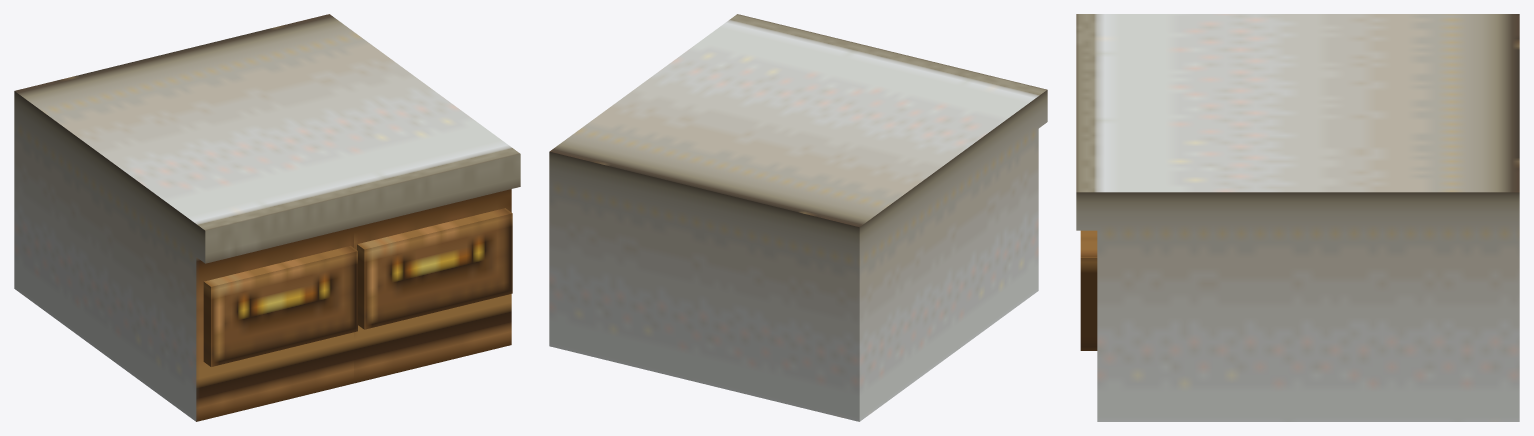
Rendered from Inside_Poly_Kitchen_Table_03.obj.
3 views of the same model, side by side, from view 1: azimuth 30°, elevation 25°; view 2: azimuth 150°, elevation 25°; view 3: azimuth 270°, elevation 25° (orthographic). The views are drawn at different scales.
Parts seen in each view (by area): view 1: Cube; view 2: Cube; view 3: Cube.
Part boxes in pixels (left/top/right/bottom): Cube: left=14, top=14, right=520, bottom=421; Cube: left=549, top=14, right=1047, bottom=421; Cube: left=1076, top=14, right=1519, bottom=421.
Bounding box in the file's own units: 1 × 0.6 × 1.05.
1 material, 1 textured.
